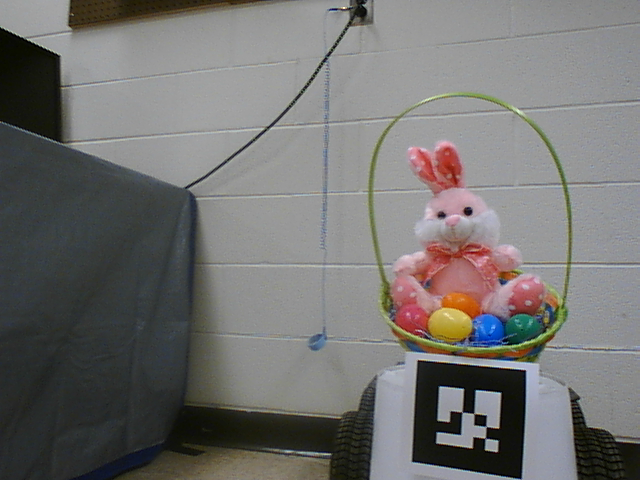bunny: (361, 83, 576, 374)
